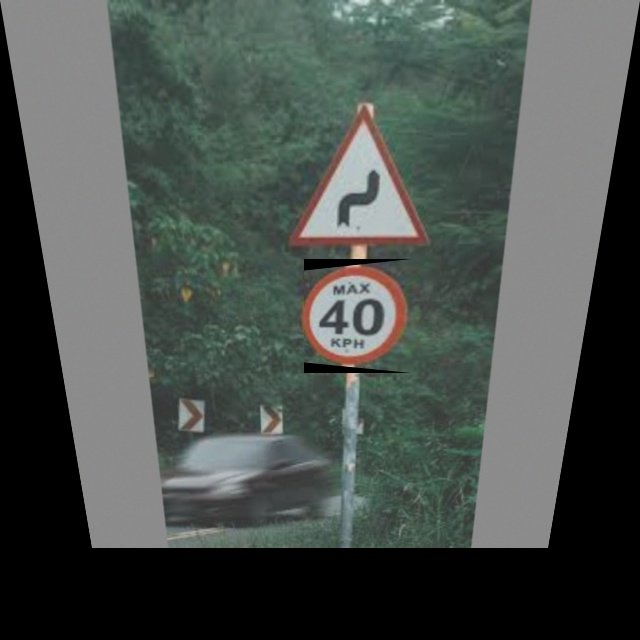Speed_Limit_40: (304, 259, 412, 373)
